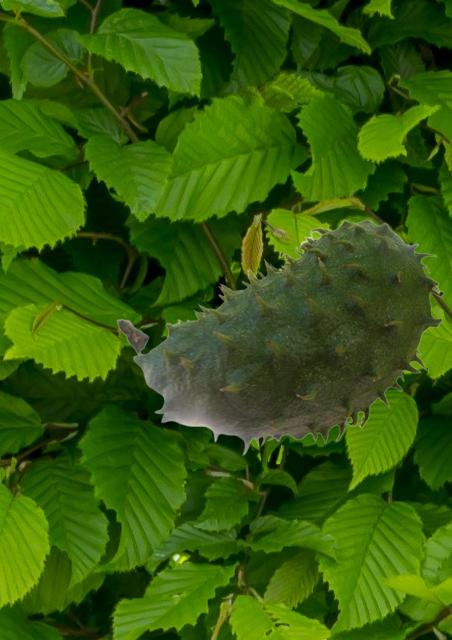guyabano: (116, 219, 443, 455)
